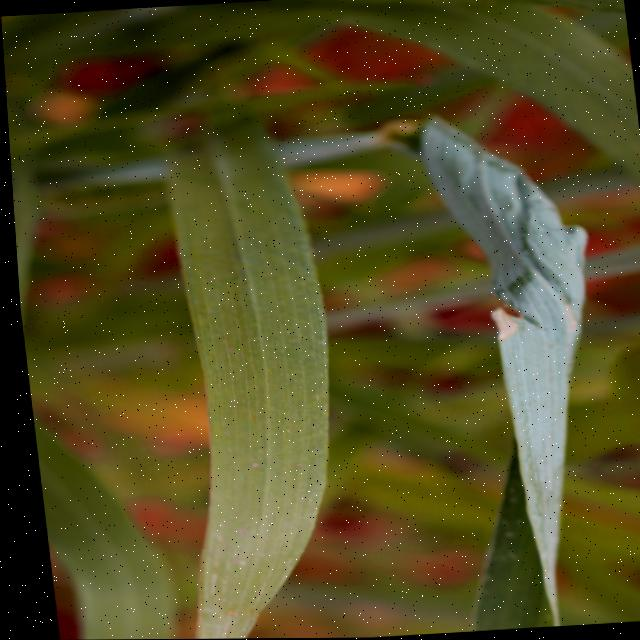healthy_wheat: (91, 110, 362, 640), (390, 199, 640, 633), (312, 0, 640, 214), (0, 0, 308, 120)
